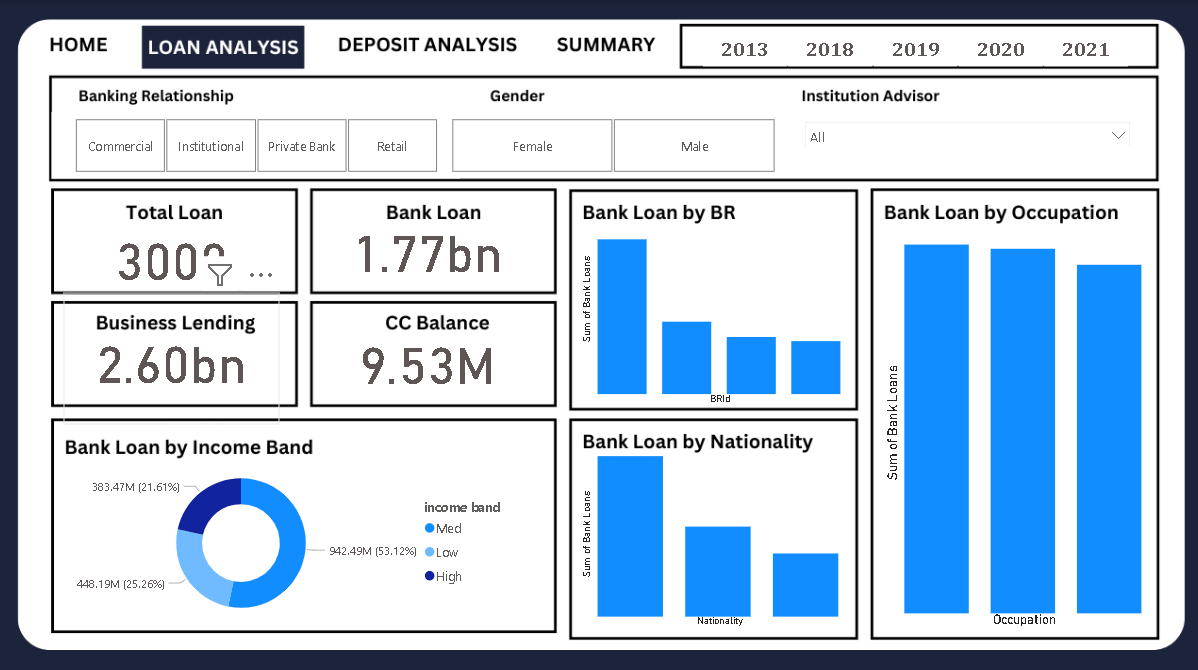

What the dashboard file says about the page in this screenshot:
{"tool":"powerbi","page":{"name":"Loan Analysis","canvas":[1280,720],"ordinal":2},"visuals":[{"type":"actionButton","box":[39.7,24.6,90.7,47.2],"z":0},{"type":"actionButton","box":[355.3,24.6,202.2,47.2],"z":1},{"type":"actionButton","box":[570.7,24.6,139.8,47.2],"z":3},{"type":"card","fields":{"Values":["banking_pro customer.Name"]},"box":[58.6,217.3,255.1,105.8],"z":4},{"type":"card","fields":{"Values":["banking_pro customer.Bank Loans"]},"box":[334.5,202.2,245.7,120.9],"z":5},{"type":"card","fields":{"Values":["banking_pro customer.Business Lending"]},"box":[71.8,309.9,228.7,139.8],"z":6},{"type":"card","fields":{"Values":["banking_pro customer.Credit Card Balance"]},"box":[313.7,326.9,287.2,105.8],"z":7},{"type":"donutChart","fields":{"Category":["banking_pro customer.income band"],"Y":["banking_pro customer.Bank Loans"]},"box":[60.5,481.9,497,187.1],"z":8},{"type":"columnChart","fields":{"Category":["banking_pro customer.BRId"],"Y":["banking_pro customer.Bank Loans"]},"box":[616.1,202.2,287.2,230.6],"z":9},{"type":"columnChart","fields":{"Y":["banking_pro customer.Bank Loans"],"Category":["banking_pro customer.Nationality"]},"box":[616.1,464.9,287.2,204.1],"z":10},{"type":"columnChart","fields":{"Y":["banking_pro customer.Bank Loans"],"Category":["banking_pro customer.Occupation"]},"box":[937.3,230.6,287.2,438.4],"z":11},{"type":"slicer","fields":{"Values":["banking_pro customer.BRId"]},"box":[58.6,119.1,432.8,69.9],"z":12},{"type":"slicer","fields":{"Values":["banking_pro customer.GenderId"]},"box":[457.3,119.1,391.2,69.9],"z":13},{"type":"slicer","fields":{"Values":["banking_pro customer.IAId"]},"box":[848.5,119.1,364.7,35.9],"z":14},{"type":"slicer","fields":{"Values":["banking_pro customer.year_of_join"]},"box":[723.8,26.5,500.8,45.4],"z":15}]}

Visuals, with their boxes in screenshot pixels (x1, y1, x2, y2), scaled from the page's 1280x720 canvas onto the 1198x670 screenshot:
actionButton: {"x1": 37, "y1": 23, "x2": 122, "y2": 67}
actionButton: {"x1": 333, "y1": 23, "x2": 522, "y2": 67}
actionButton: {"x1": 534, "y1": 23, "x2": 665, "y2": 67}
card - banking_pro customer.Name: {"x1": 55, "y1": 202, "x2": 294, "y2": 301}
card - banking_pro customer.Bank Loans: {"x1": 313, "y1": 188, "x2": 543, "y2": 301}
card - banking_pro customer.Business Lending: {"x1": 67, "y1": 288, "x2": 281, "y2": 418}
card - banking_pro customer.Credit Card Balance: {"x1": 294, "y1": 304, "x2": 562, "y2": 403}
donutChart - banking_pro customer.income band x banking_pro customer.Bank Loans: {"x1": 57, "y1": 448, "x2": 522, "y2": 623}
columnChart - banking_pro customer.BRId x banking_pro customer.Bank Loans: {"x1": 577, "y1": 188, "x2": 845, "y2": 403}
columnChart - banking_pro customer.Bank Loans x banking_pro customer.Nationality: {"x1": 577, "y1": 433, "x2": 845, "y2": 623}
columnChart - banking_pro customer.Bank Loans x banking_pro customer.Occupation: {"x1": 877, "y1": 215, "x2": 1146, "y2": 623}
slicer - banking_pro customer.BRId: {"x1": 55, "y1": 111, "x2": 460, "y2": 176}
slicer - banking_pro customer.GenderId: {"x1": 428, "y1": 111, "x2": 794, "y2": 176}
slicer - banking_pro customer.IAId: {"x1": 794, "y1": 111, "x2": 1135, "y2": 144}
slicer - banking_pro customer.year_of_join: {"x1": 677, "y1": 25, "x2": 1146, "y2": 67}
